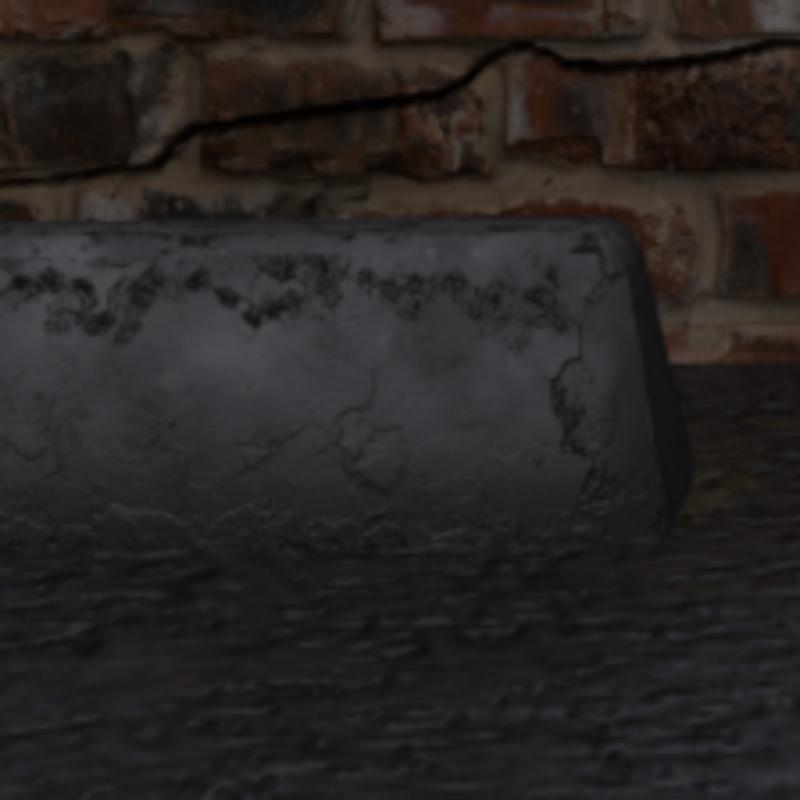crack: (0, 39, 796, 186)
